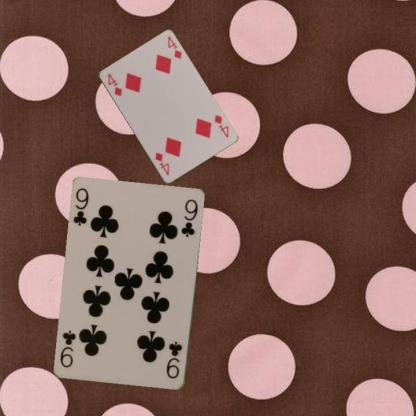4d: (211, 112, 230, 139), (105, 71, 123, 97)
9c: (71, 186, 91, 228), (164, 339, 183, 380)
